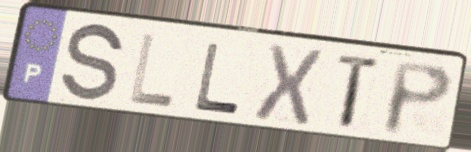L: (126, 31, 178, 111), (192, 40, 243, 117)
P: (381, 59, 457, 139)
S: (56, 21, 127, 106)
T: (334, 51, 385, 133)
X: (249, 41, 326, 128)
